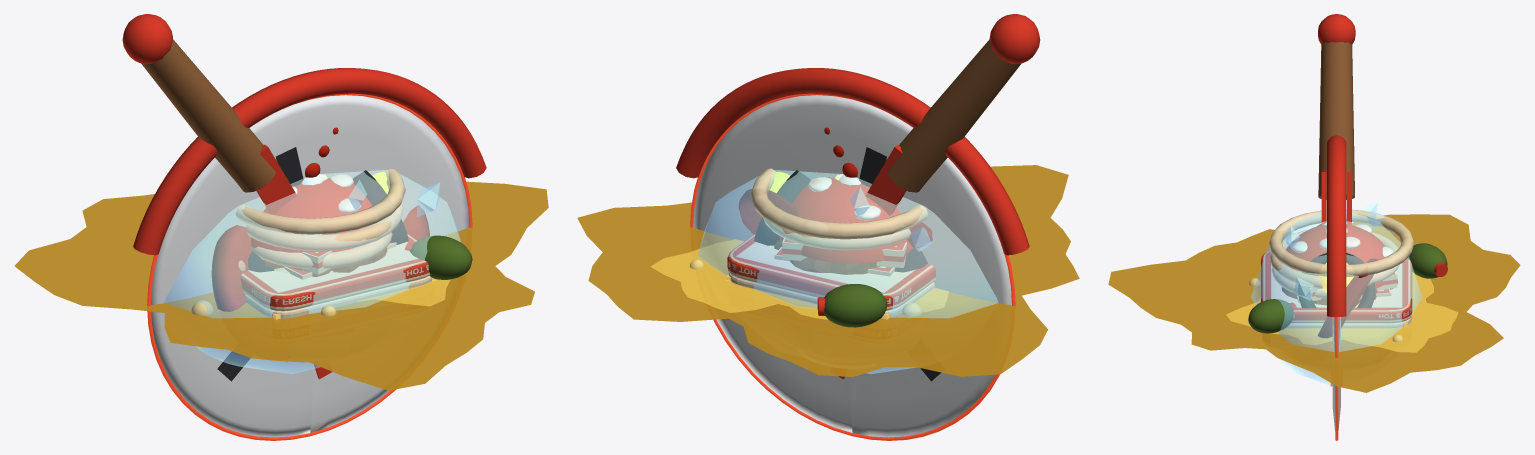
Rendered from items.glb.
3 renders of one model, left to right at view 1: azimuth 30°, elevation 25°; view 2: azimuth 150°, elevation 25°; view 3: azimuth 270°, elevation 25°, orthographic. The views are drawn at different scales.
Visible parts, largest first — view 1: wheel, oil, icebox, twister, itembox, trio, shroom, cannon, boxes, meatball; view 2: wheel, oil, icebox, itembox, twister, shroom, cannon, trio, boxes, meatball; view 3: oil, icebox, wheel, twister, itembox, shroom, cannon, trio, boxes.
Boxes of the visible parts, bbox=[...] form: wheel: bbox=[122, 14, 486, 440]; oil: bbox=[14, 181, 548, 390]; icebox: bbox=[164, 170, 461, 373]; twister: bbox=[236, 168, 405, 273]; itembox: bbox=[240, 233, 436, 319]; trio: bbox=[211, 205, 429, 311]; shroom: bbox=[251, 174, 371, 252]; cannon: bbox=[248, 170, 408, 272]; boxes: bbox=[283, 242, 396, 279]; meatball: bbox=[262, 248, 387, 276]; wheel: bbox=[676, 14, 1040, 440]; oil: bbox=[577, 165, 1079, 376]; icebox: bbox=[698, 170, 998, 373]; itembox: bbox=[726, 234, 935, 319]; twister: bbox=[750, 168, 928, 250]; shroom: bbox=[779, 177, 911, 263]; cannon: bbox=[754, 170, 927, 272]; trio: bbox=[738, 189, 932, 248]; boxes: bbox=[774, 238, 906, 276]; meatball: bbox=[774, 239, 879, 274]; oil: bbox=[1108, 214, 1520, 392]; icebox: bbox=[1251, 202, 1421, 385]; wheel: bbox=[1318, 14, 1355, 440]; twister: bbox=[1269, 209, 1414, 298]; itembox: bbox=[1261, 251, 1412, 328]; shroom: bbox=[1286, 221, 1392, 288]; cannon: bbox=[1298, 252, 1375, 308]; trio: bbox=[1317, 224, 1377, 338]; boxes: bbox=[1297, 272, 1397, 302].
Bounding box in the file's own units: 20.68 × 18.98 × 20.18.
Materials: 91 (6 with a texture image).
